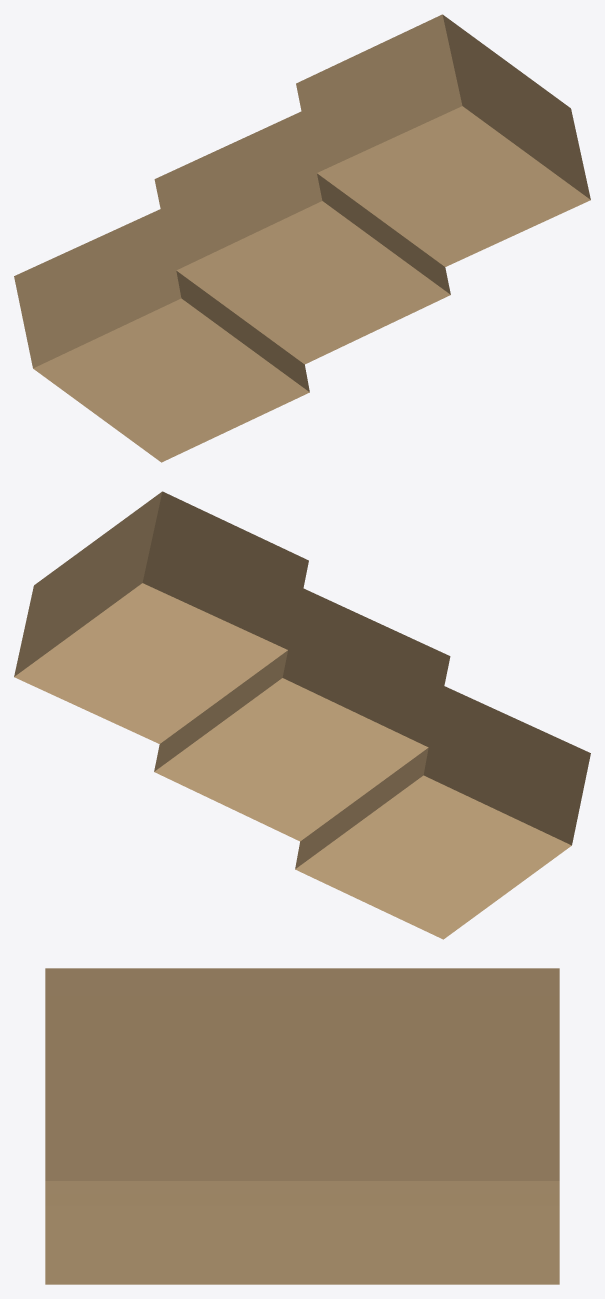
3 views of the same model, one above another, from view 1: azimuth 30°, elevation 25°; view 2: azimuth 150°, elevation 25°; view 3: azimuth 270°, elevation 25° (orthographic). The views are drawn at different scales.
Visible parts, largest first — view 1: 0_0_1_1_3_1_2; view 2: 0_0_1_1_3_1_2; view 3: 0_0_1_1_3_1_2.
Part boxes in pixels (left/top/right/bottom): 0_0_1_1_3_1_2: left=14, top=14, right=590, bottom=462; 0_0_1_1_3_1_2: left=14, top=491, right=590, bottom=939; 0_0_1_1_3_1_2: left=45, top=968, right=559, bottom=1284.
Bounding box in the file's own units: 48.35 × 26.2 × 24.
